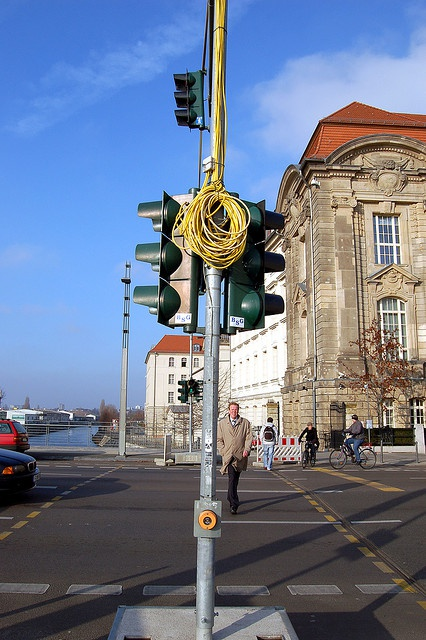non-vehicle: (329, 430, 377, 470), (300, 440, 316, 468)
